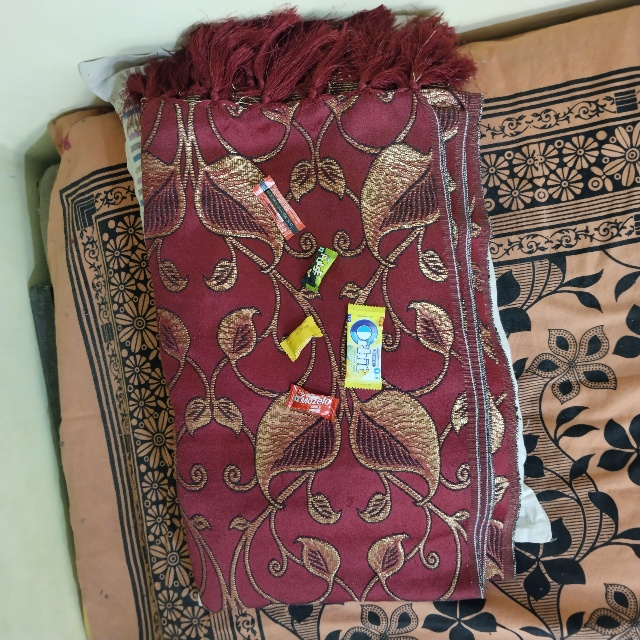Alpenlibe Creamfills: (310, 310, 337, 361)
Mazelo: (293, 384, 343, 412)
Nescafe Coffee: (247, 185, 275, 257)
Orbit: (345, 301, 386, 392)
Pulse: (320, 242, 345, 287)
